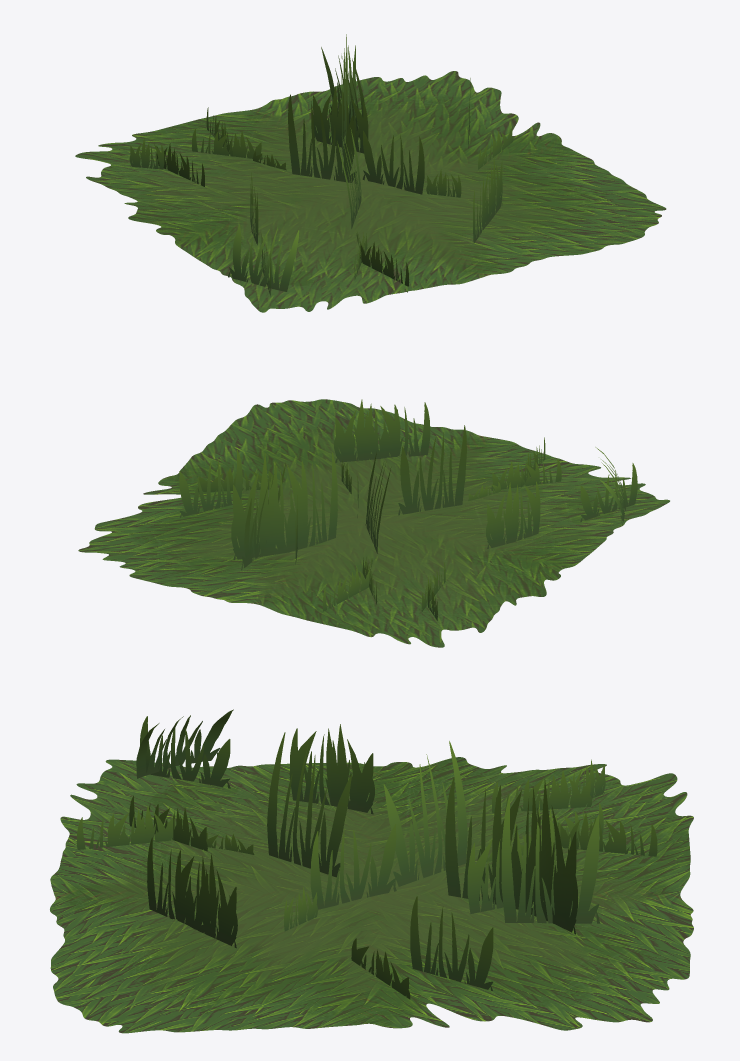
The model's file is SM_Grass.fbx.
3 renders of one model, top to bottom at view 1: azimuth 30°, elevation 25°; view 2: azimuth 150°, elevation 25°; view 3: azimuth 270°, elevation 25°, orthographic. The views are drawn at different scales.
Visible parts, largest first — view 1: Grass; view 2: Grass; view 3: Grass.
Part boxes in pixels (left/top/right/bottom): Grass: left=75, top=34, right=666, bottom=312; Grass: left=78, top=399, right=669, bottom=647; Grass: left=50, top=709, right=693, bottom=1033.
Size of the model in its own units: 300 by 71.11 by 300.
1 material, 1 textured.
